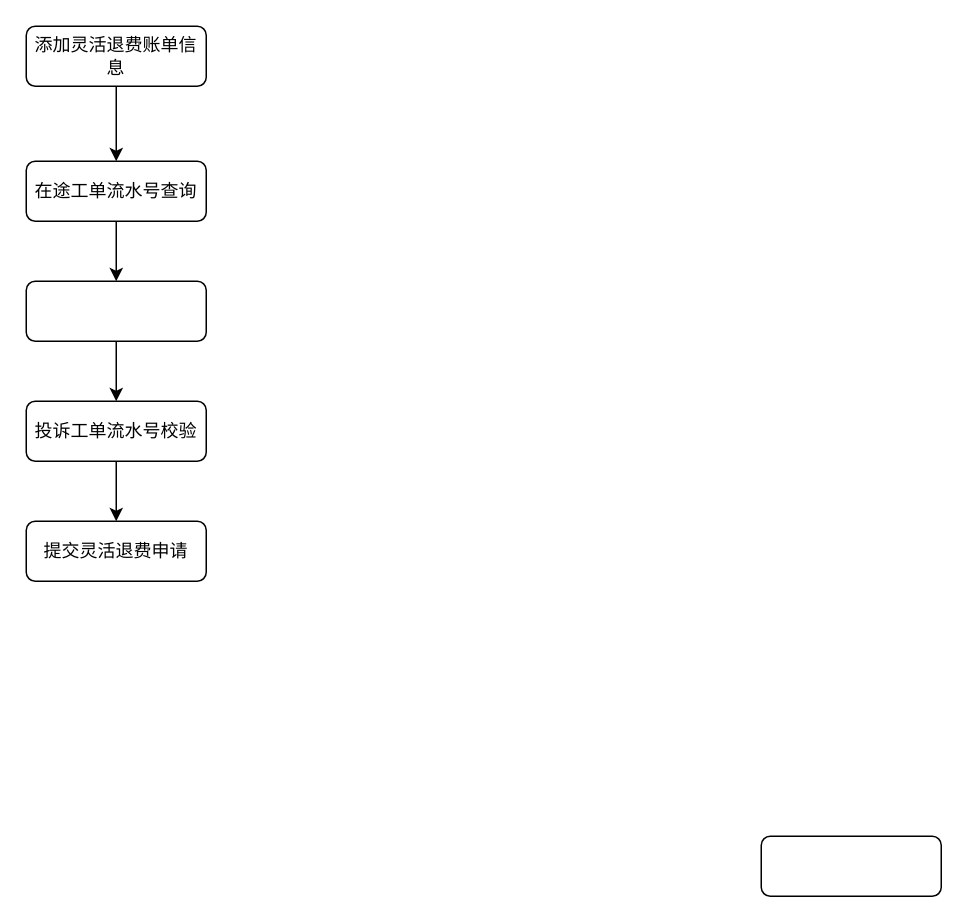
Image size: 968x923. Some labels were removed from this diagram. Each missing label, with the centre of its shape:
"提交退费申请" belongs at [850,865].
"电子退费工单号校验" belongs at [115,310].
